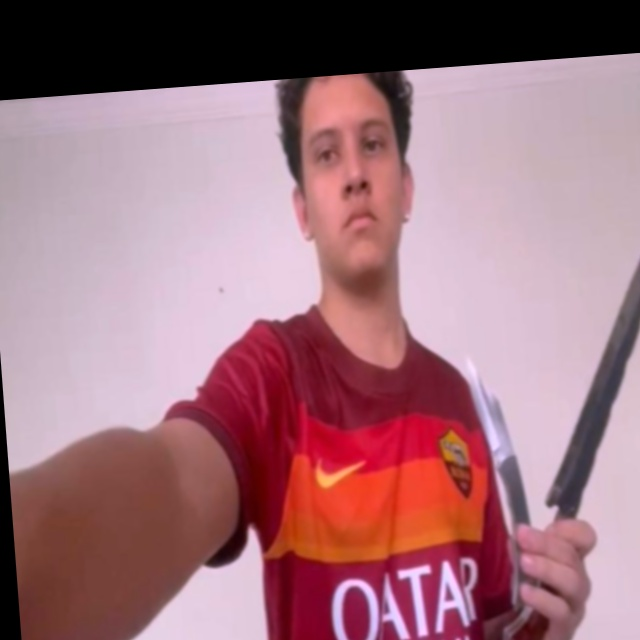Sharp-Object: (525, 199, 640, 508), (464, 353, 517, 466)
